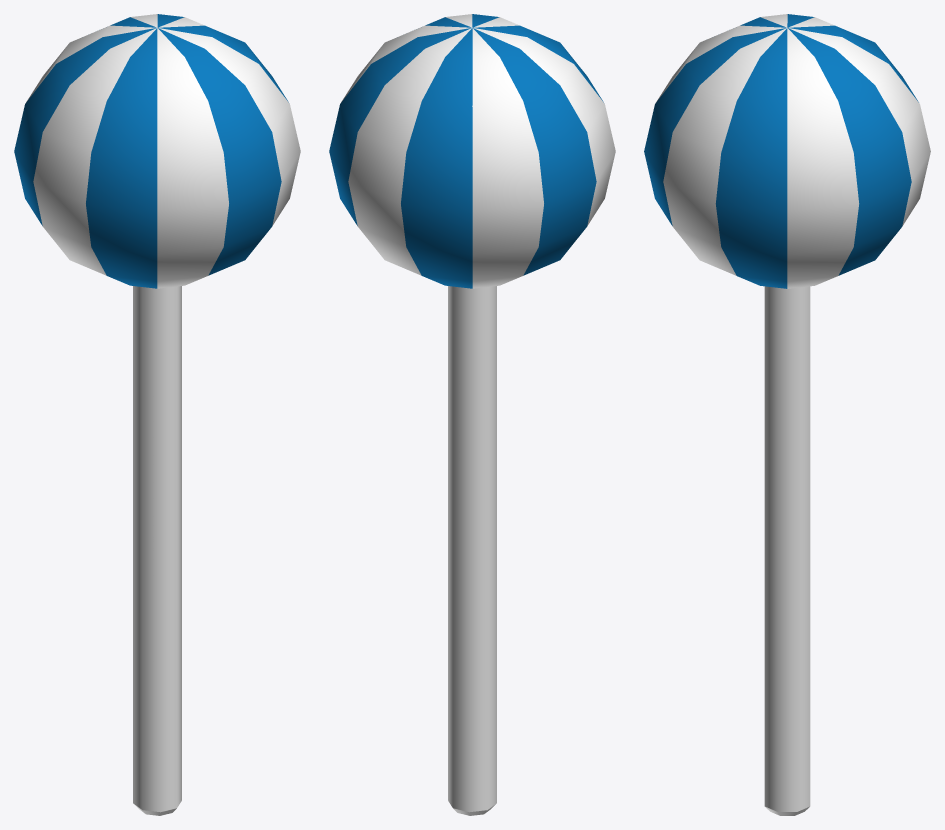
File: Candy_22.fbx
The picture shows the model from 3 angles, left to right: view 1: azimuth 30°, elevation 25°; view 2: azimuth 150°, elevation 25°; view 3: azimuth 270°, elevation 25°; orthographic projection.
Visible parts, largest first — view 1: Candy_22; view 2: Candy_22; view 3: Candy_22.
Part boxes in pixels (box(x1,y1,x2,y2)): Candy_22: box(14, 14, 300, 815); Candy_22: box(329, 14, 615, 815); Candy_22: box(644, 14, 930, 815).
Size of the model in its own units: 0.8726 by 2.62 by 0.8726.
